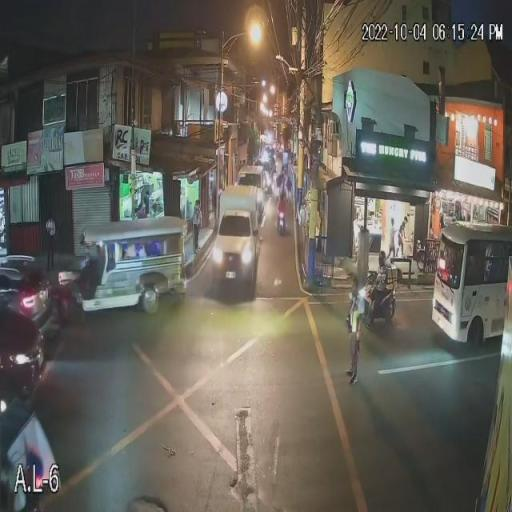helmet: (378, 250, 387, 266)
motorcycle: (364, 272, 398, 330), (276, 208, 287, 235)
rider: (368, 250, 392, 304), (275, 190, 288, 220)
